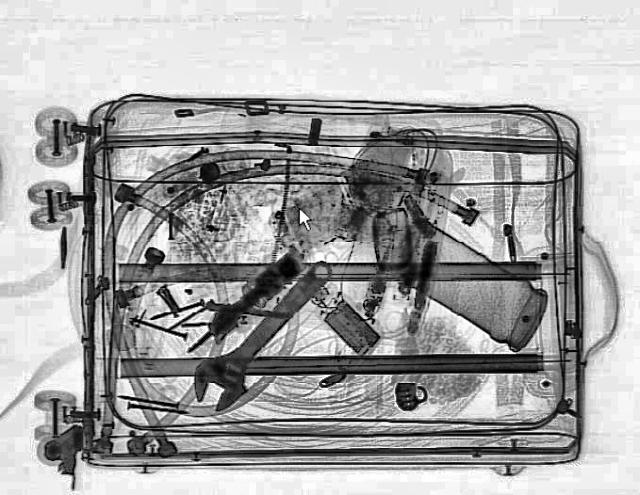Wrench: (170, 250, 356, 414)
